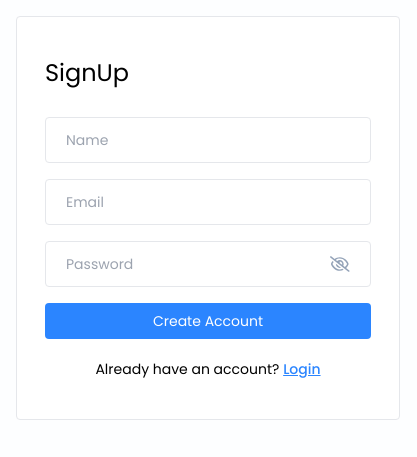
SignUp Component › shows error if email is invalid
The image size is (417, 457).
In the field with placeholder "Name": [208, 140] box 45,117 -> 371,163, type "Test User"
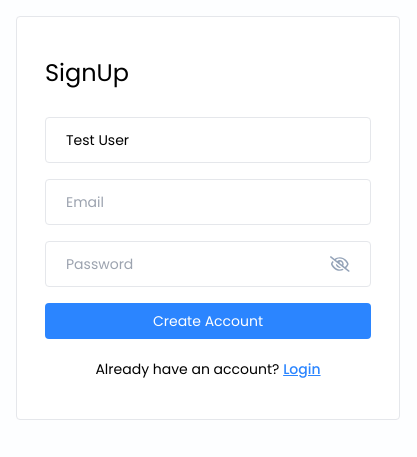
In the field with placeholder "Email": [208, 202] box 45,179 -> 371,225, type "invalid-email"
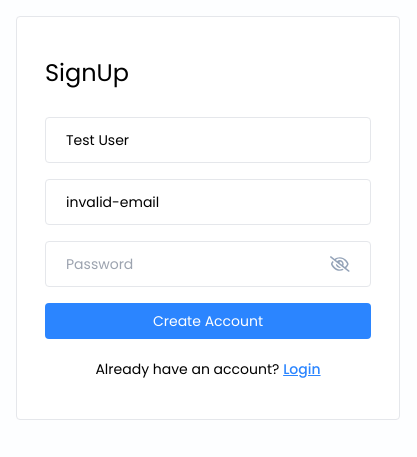
In the password field with placeholder "Password": [192, 264] box 66,242 -> 318,286, type "123456"
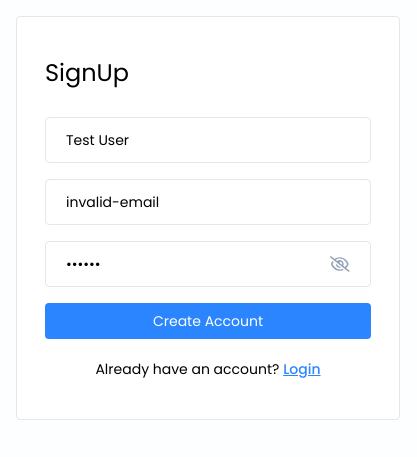
Click the button "Create Account": [208, 321] box 45,303 -> 371,339
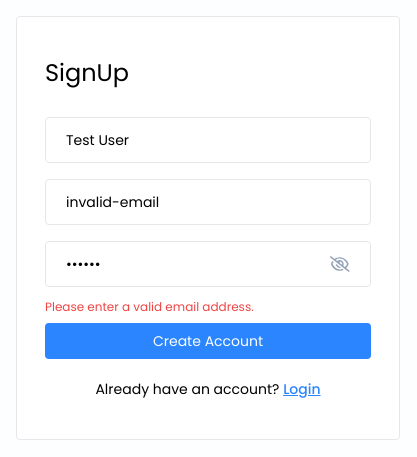
Expected: the text "Please enter a valid email address." is shown, 45,298 -> 254,315
